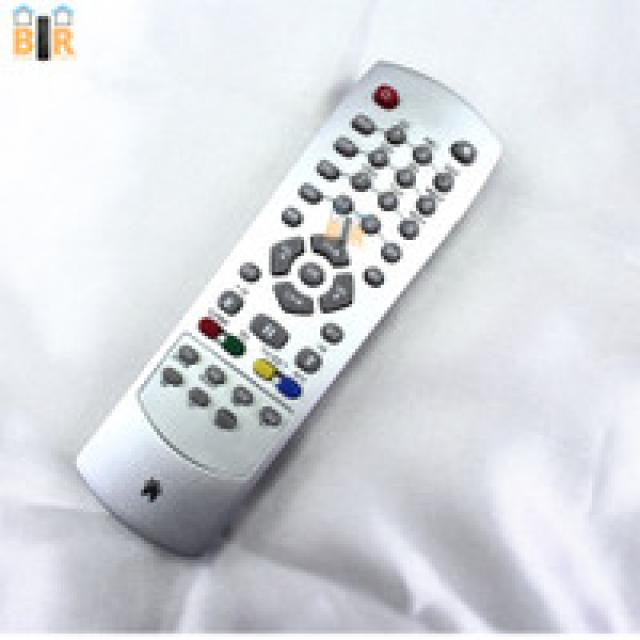remote: (73, 60, 508, 565)
